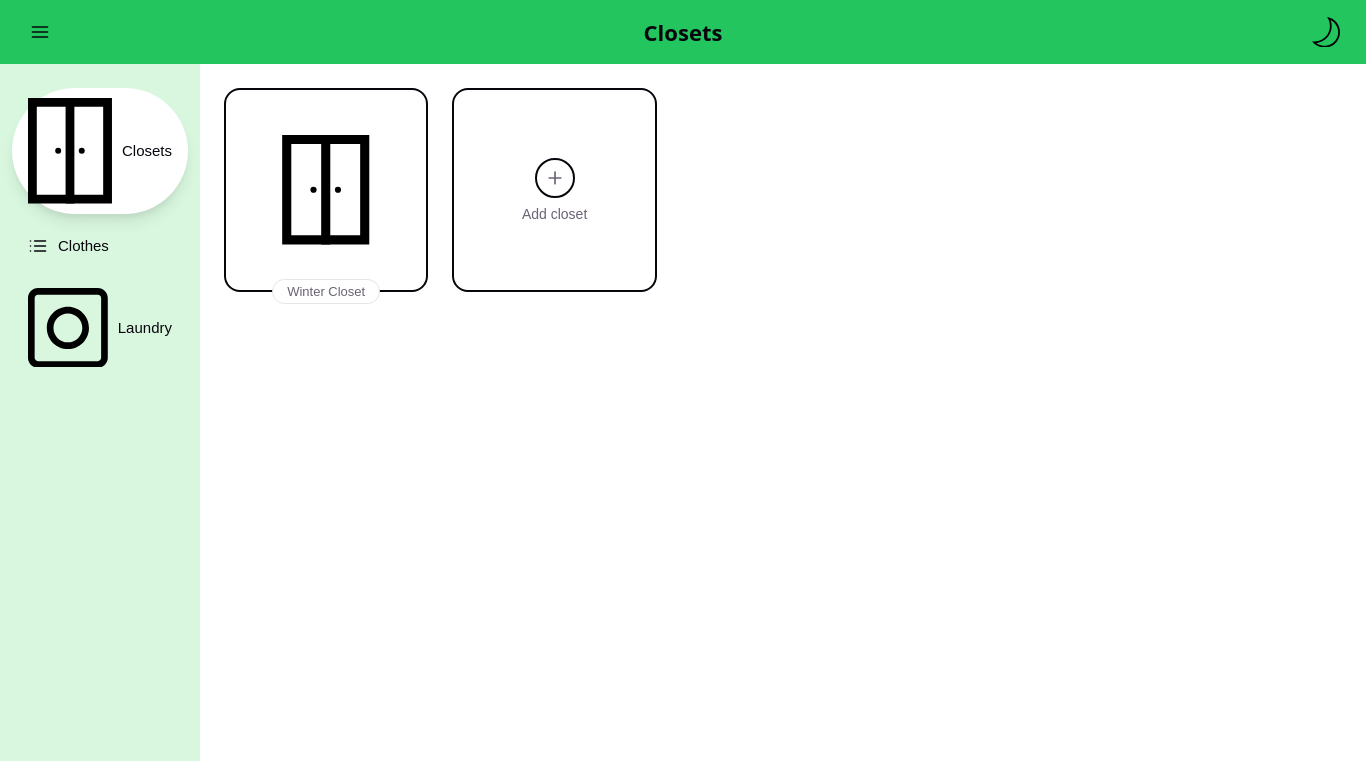
Scenario: App navigation › clicking an item card shows its detail screen with full info
Click the button "Clothes" at [100, 246], box [12,226,188,266]
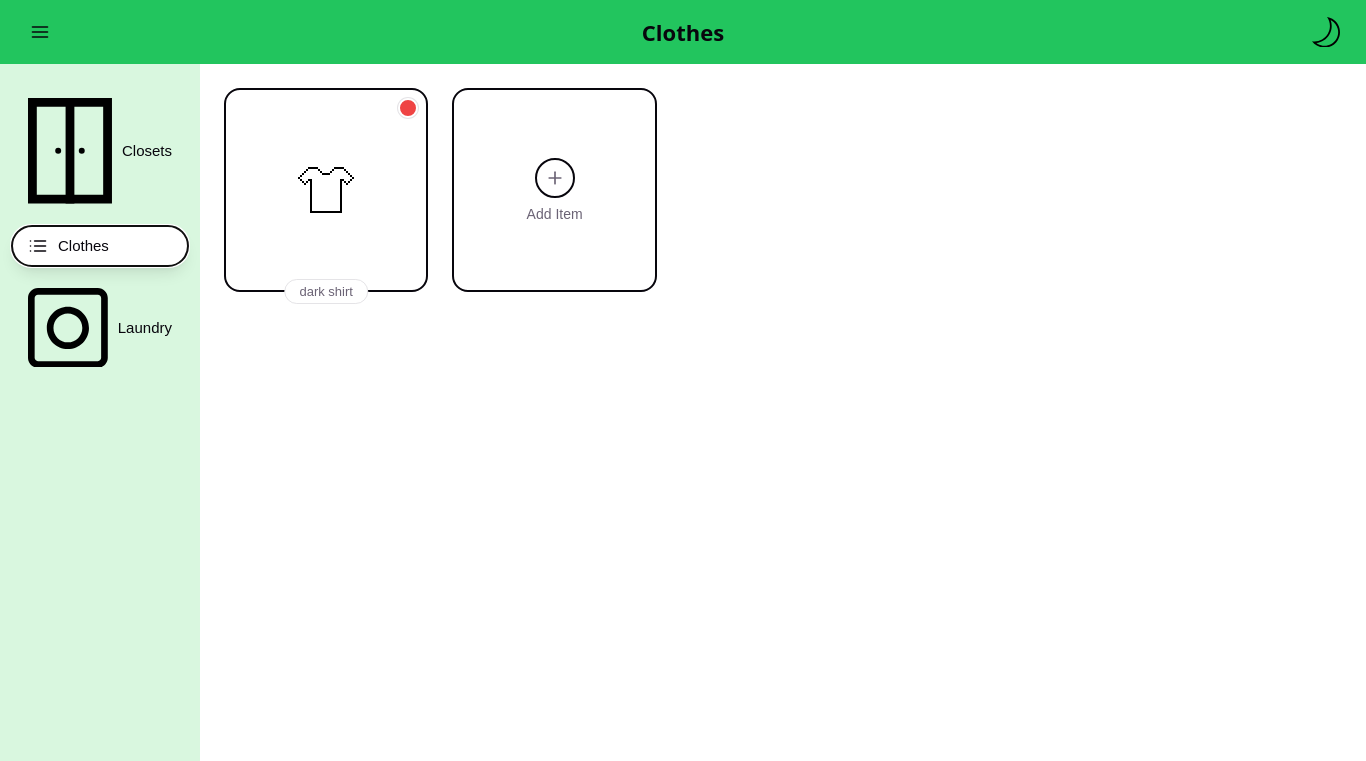
Click the button "dark shirt" at [326, 190], box [224,88,428,292]
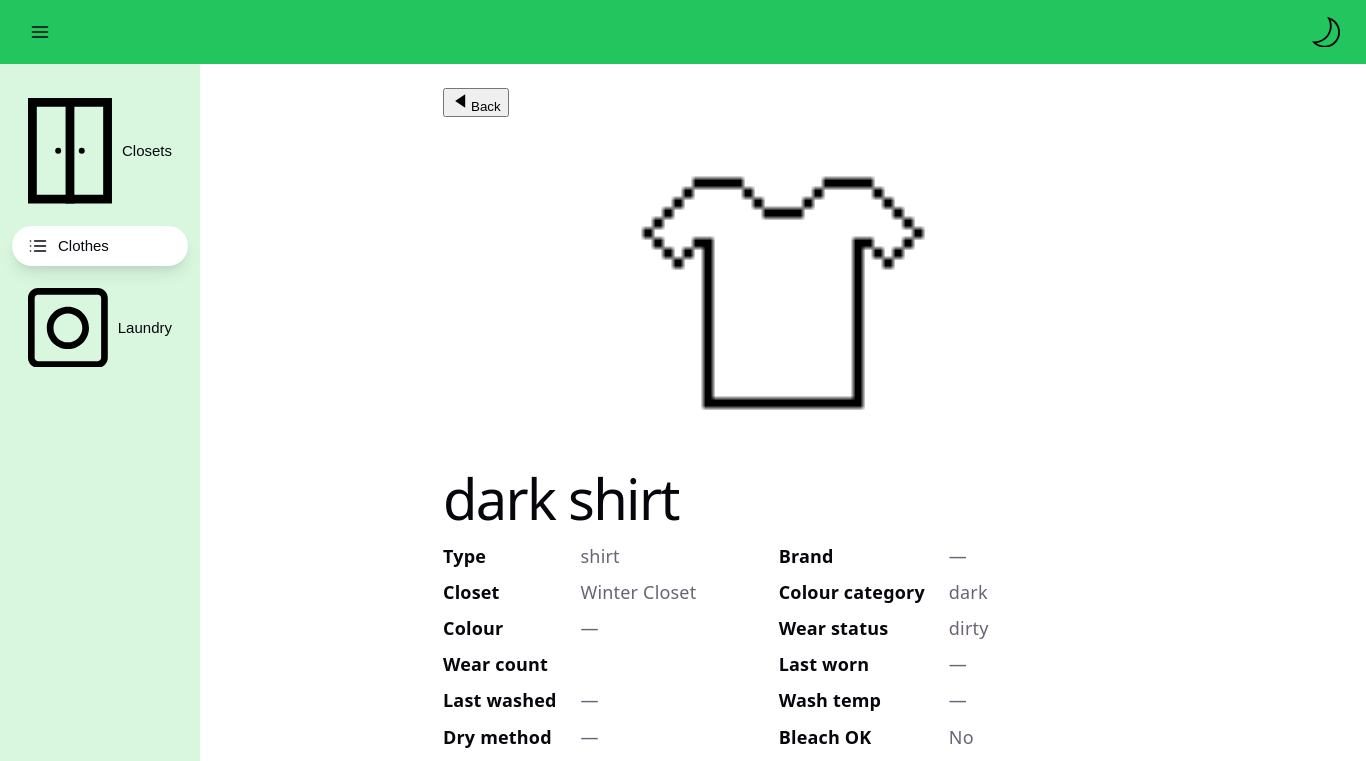
expect the heading "dark shirt" is shown: met, box [443,460,679,536]
expect the text "shirt" is shown: met, box [580,544,620,568]
